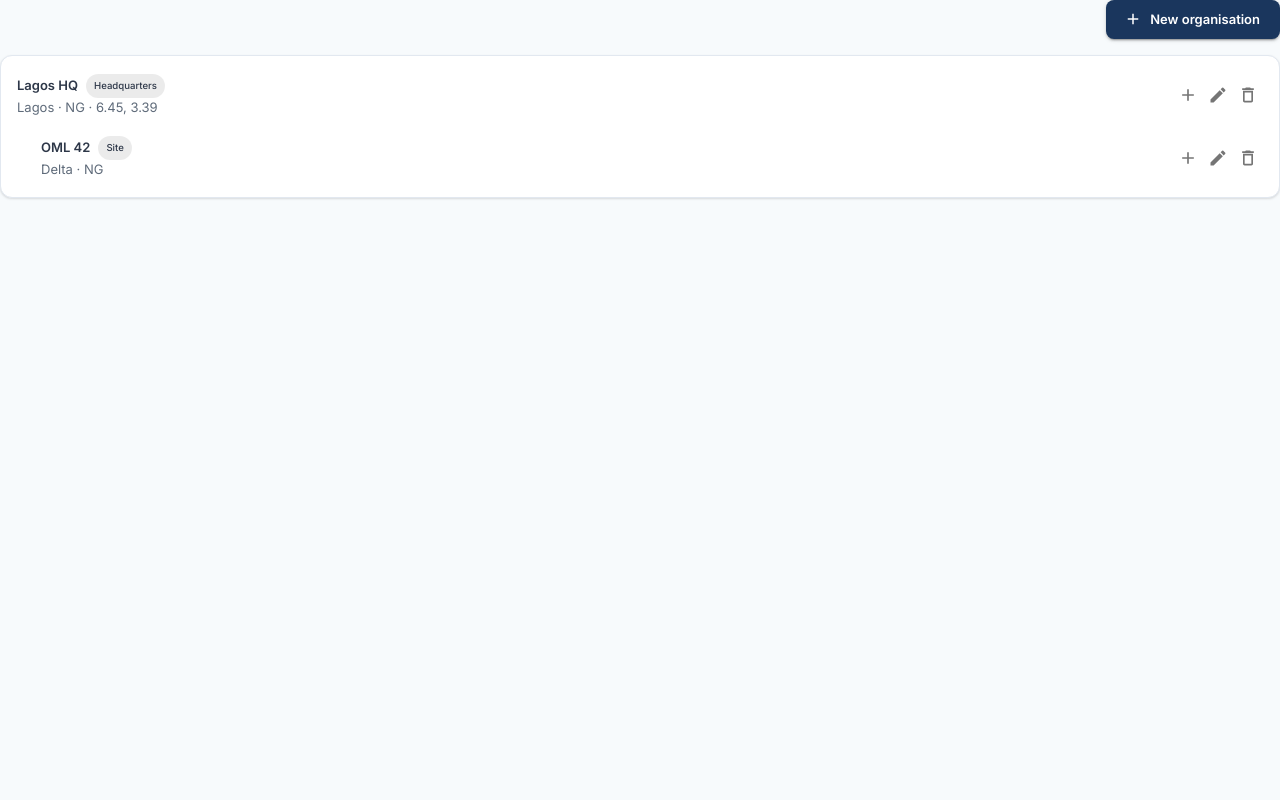
Test: OrganisationsTab › shows the tree and edit reloads every field
The width and height of the screenshot is (1280, 800).
Expected: the text "Lagos HQ" is shown, [17, 76, 78, 92]
Click the button named "Edit Lagos HQ" at (1218, 95), box [1203, 80, 1233, 110]
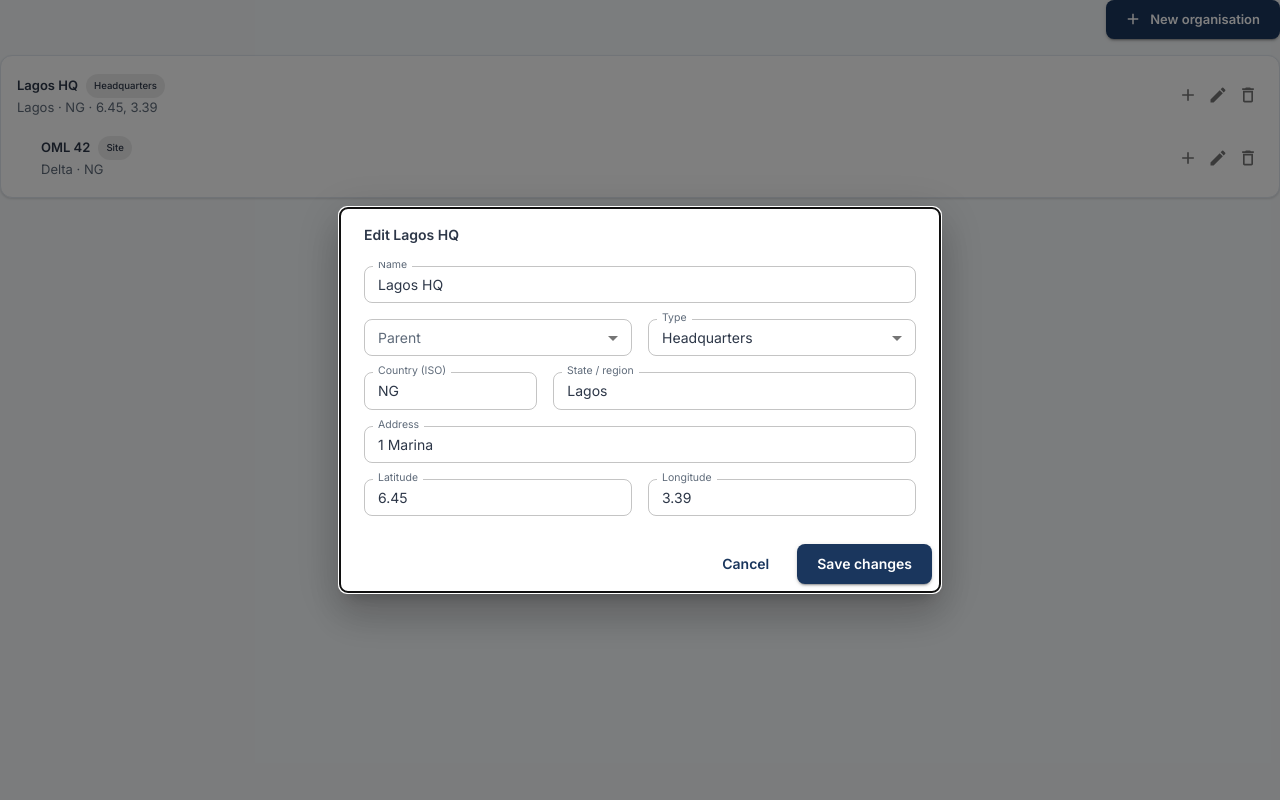
Expected: the field labelled "Name" holds "Lagos HQ", [364, 266, 916, 303]
Expected: the field labelled "Country (ISO)" holds "NG", [364, 372, 537, 410]
Expected: the field labelled "State / region" holds "Lagos", [553, 372, 916, 410]
